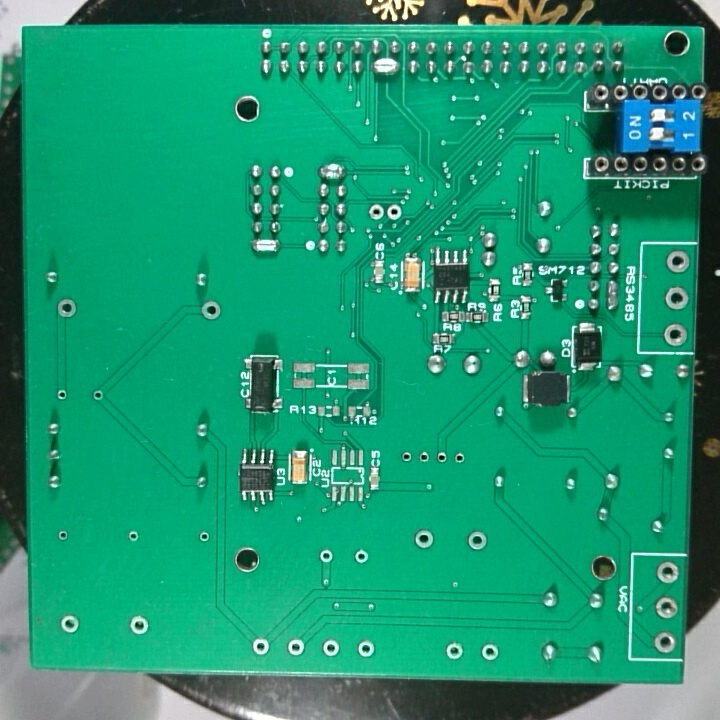F: (663, 248, 692, 278), (663, 284, 690, 312), (652, 594, 679, 621), (650, 627, 676, 655), (125, 612, 153, 638), (662, 320, 691, 345), (654, 558, 679, 585), (465, 528, 490, 553), (198, 300, 224, 324), (412, 527, 437, 551), (58, 612, 81, 638), (54, 298, 79, 321), (354, 635, 376, 660), (479, 640, 499, 665), (285, 635, 306, 658), (320, 635, 339, 660), (250, 633, 271, 655), (444, 638, 464, 661), (352, 546, 371, 568), (448, 448, 467, 470), (385, 201, 402, 223), (54, 526, 71, 548), (365, 202, 385, 220), (415, 448, 433, 468), (318, 546, 335, 566), (125, 526, 142, 546), (433, 449, 450, 468), (196, 528, 212, 546), (90, 387, 106, 405), (54, 388, 70, 405), (399, 449, 415, 466)
P: (371, 55, 400, 78), (315, 162, 348, 180), (248, 237, 281, 255), (604, 277, 619, 315)
